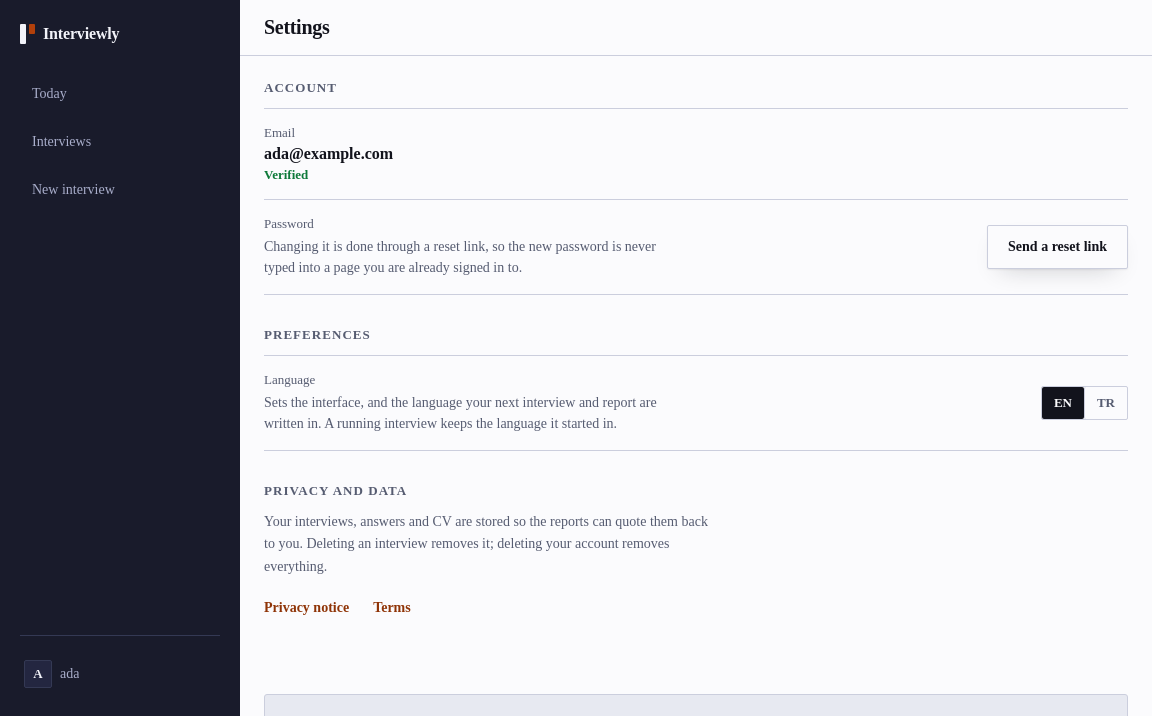
/settings — the account surface the product did not have › changes a password through the reset flow, which is the endpoint that exists
Click the button "Send a reset link" at (1058, 247), box [987,225,1128,269]
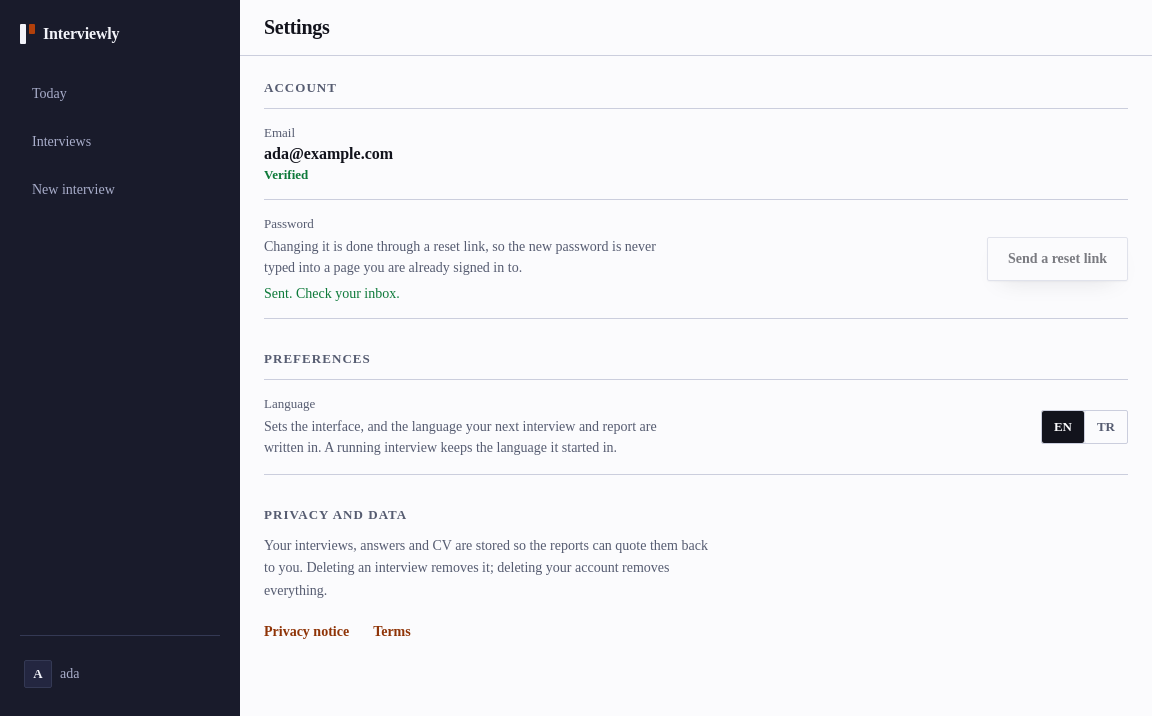
Check: the text "Sent. Check your inbox." is shown, box [264,286,400,301]
